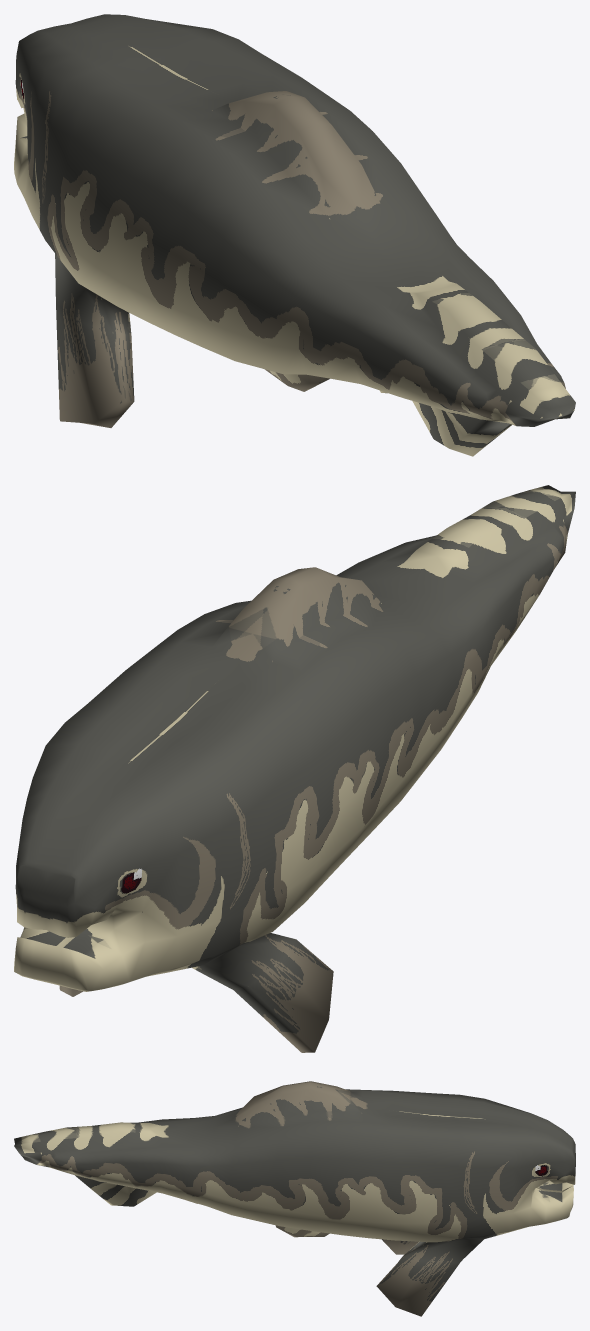
File: dunkleostus.fbx
3 views of the same model, one above another, from view 1: azimuth 30°, elevation 25°; view 2: azimuth 150°, elevation 25°; view 3: azimuth 270°, elevation 25° (orthographic). The views are drawn at different scales.
Visible parts, largest first — view 1: Cube; view 2: Cube; view 3: Cube.
Boxes of the visible parts, box(x1,y1,x2,y2) form: Cube: box(14, 14, 575, 456); Cube: box(14, 485, 575, 1052); Cube: box(14, 1081, 575, 1316).
Size of the model in its own units: 592 by 824 by 2075.
